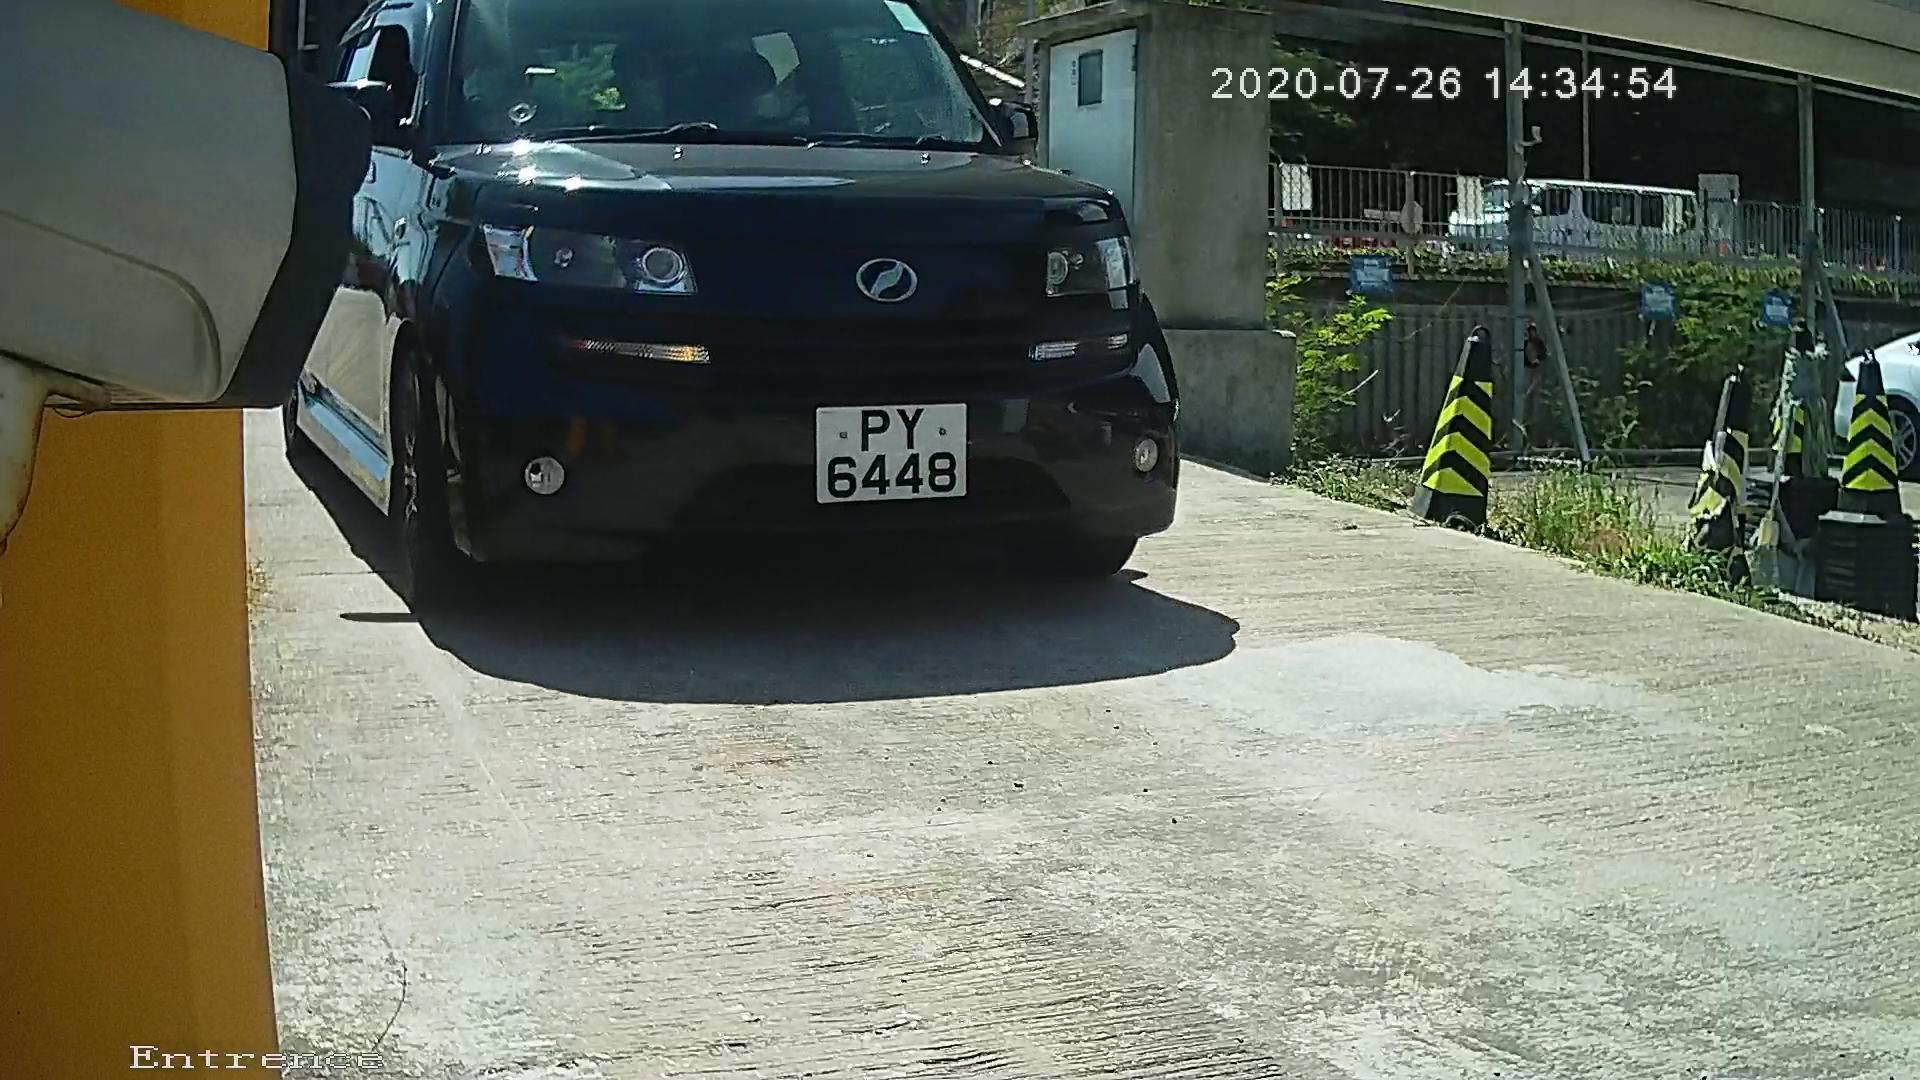privatecar: (309, 11, 1251, 647)
